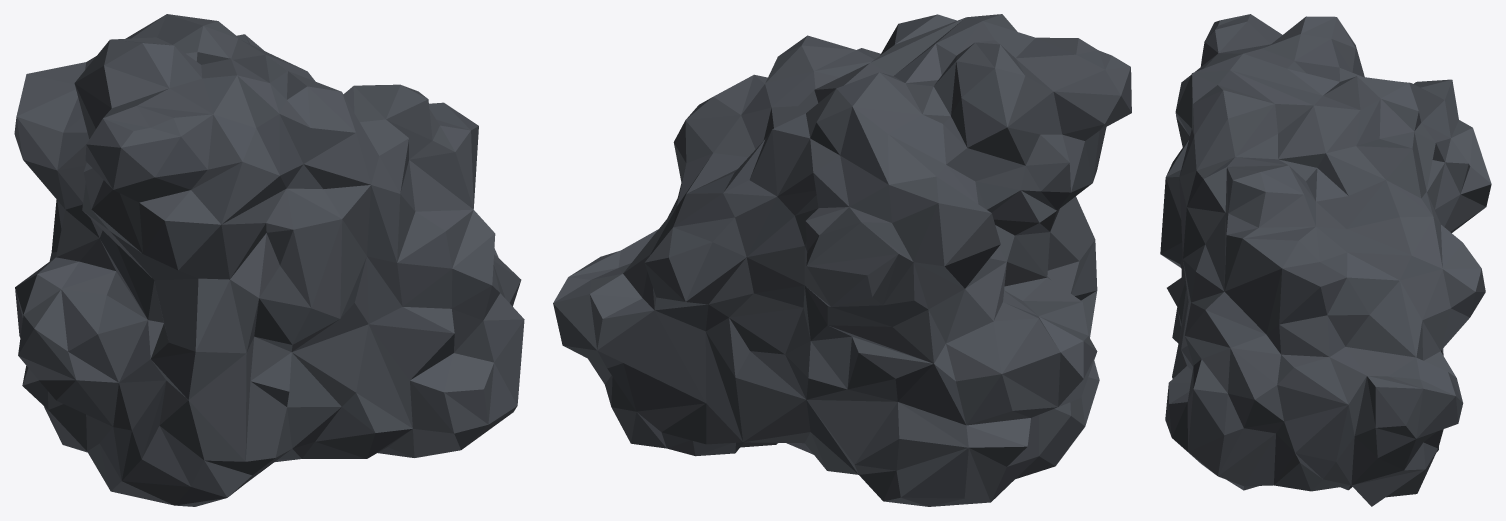
Rendered from Rock_Big_2.fbx.
3 renders of one model, left to right at view 1: azimuth 30°, elevation 25°; view 2: azimuth 150°, elevation 25°; view 3: azimuth 270°, elevation 25°, orthographic. The views are drawn at different scales.
Visible parts, largest first — view 1: Group61635; view 2: Group61635; view 3: Group61635.
Part boxes in pixels (x1,y1,x2,y2): Group61635: (14,14,524,506); Group61635: (553,14,1131,506); Group61635: (1160,14,1491,506).
Bounding box in the file's own units: 644 × 576 × 468.
